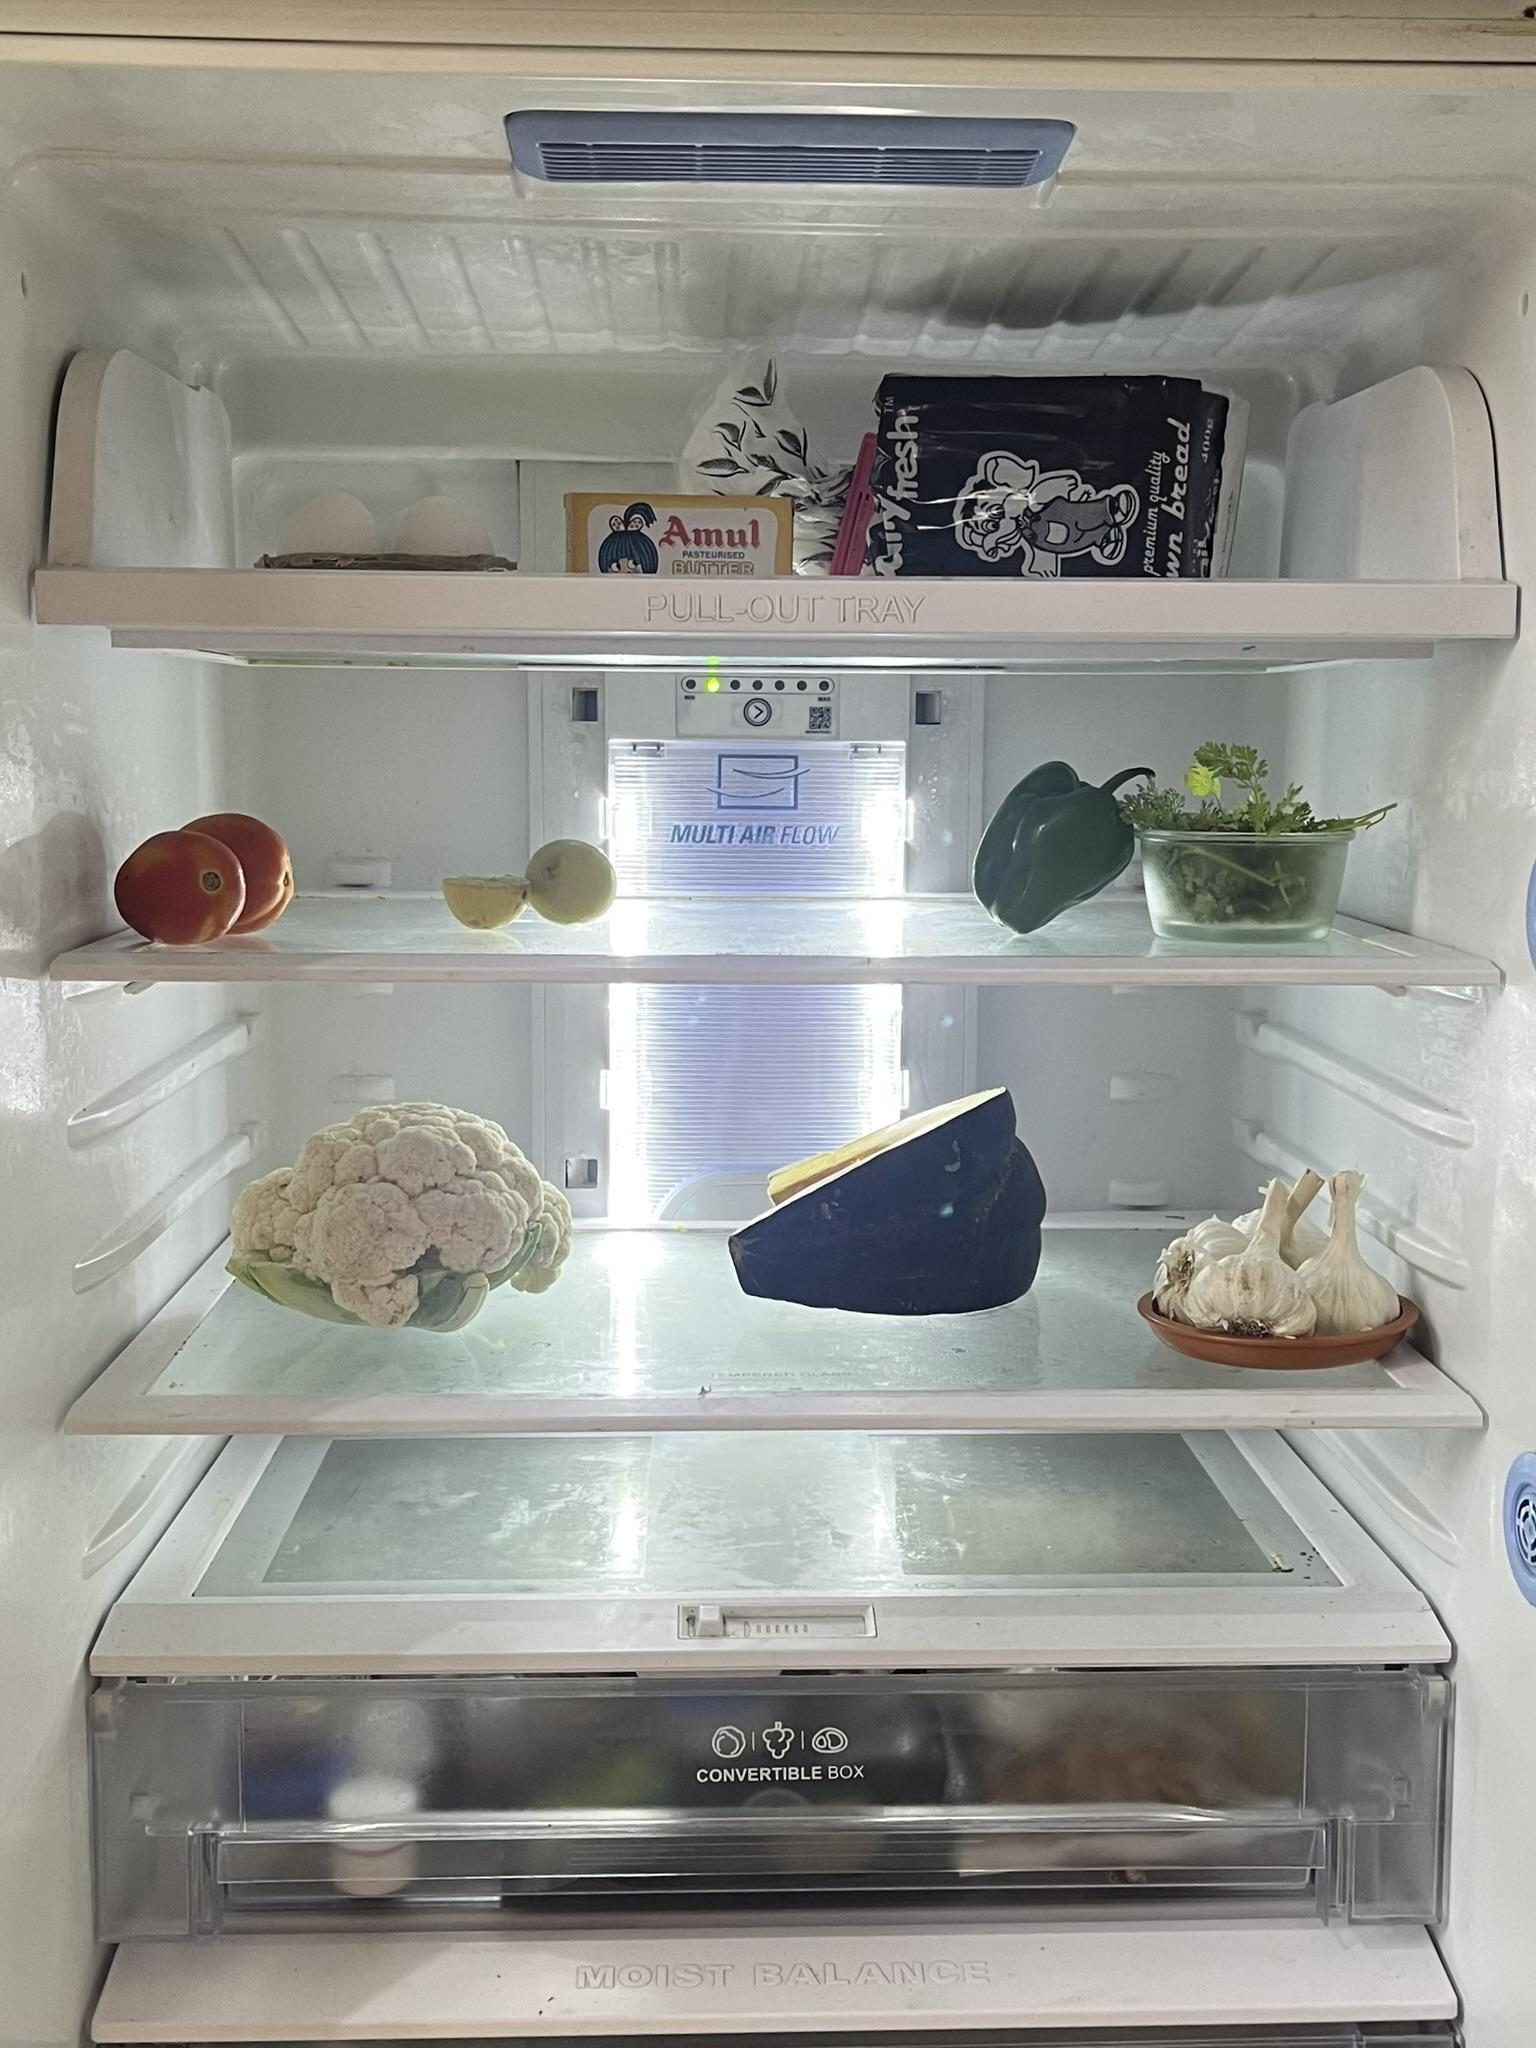bread: (726, 366, 1263, 579)
butter: (566, 482, 803, 566)
capsicum: (975, 766, 1126, 935)
cauliflower: (226, 1111, 574, 1335)
coriander: (1147, 742, 1347, 935)
egg: (261, 482, 511, 576)
garlic: (1152, 1161, 1407, 1353)
lemon: (457, 837, 615, 929)
pumpkin: (731, 1097, 1052, 1303)
tomato: (111, 801, 305, 953)
